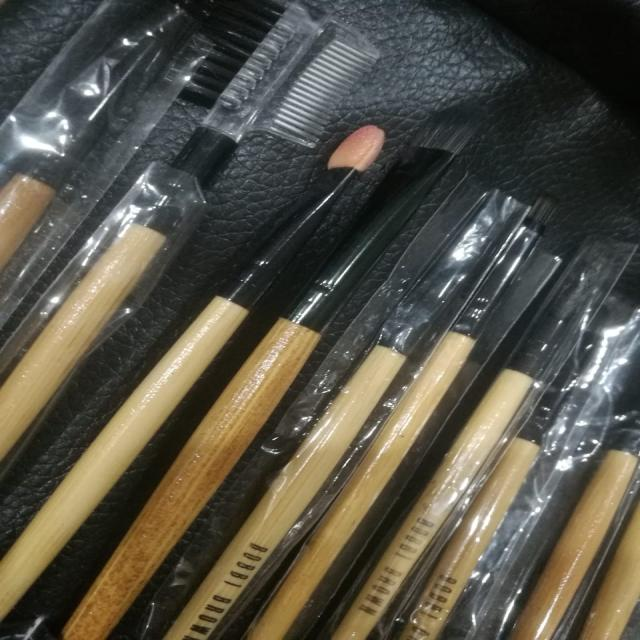brush: (0, 10, 637, 633)
